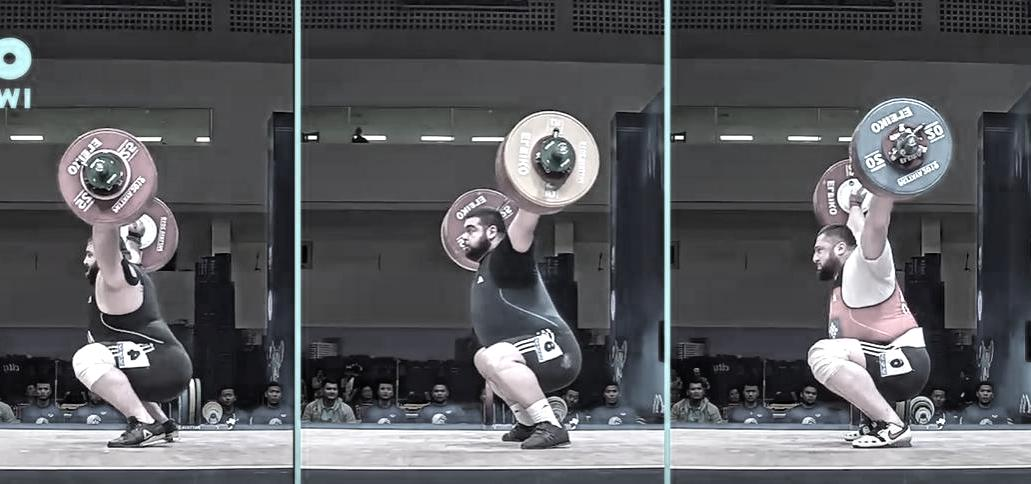Barbell: (552, 139, 573, 159), (86, 159, 109, 177), (900, 132, 921, 150)
